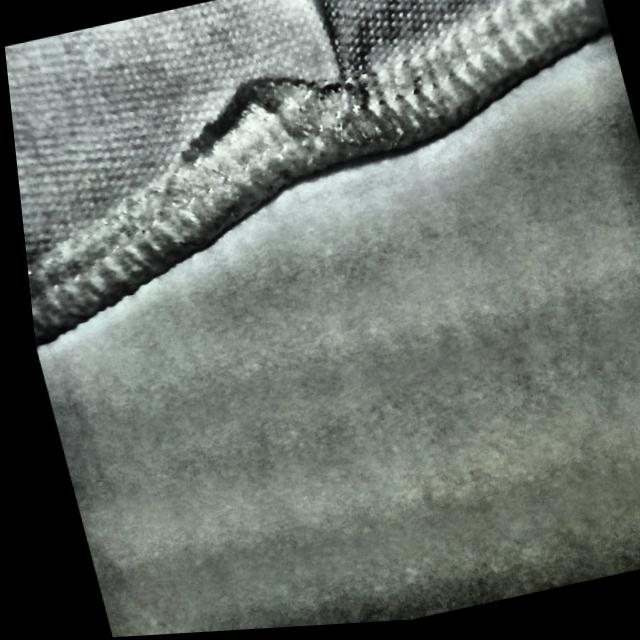seam: (180, 0, 418, 192)
